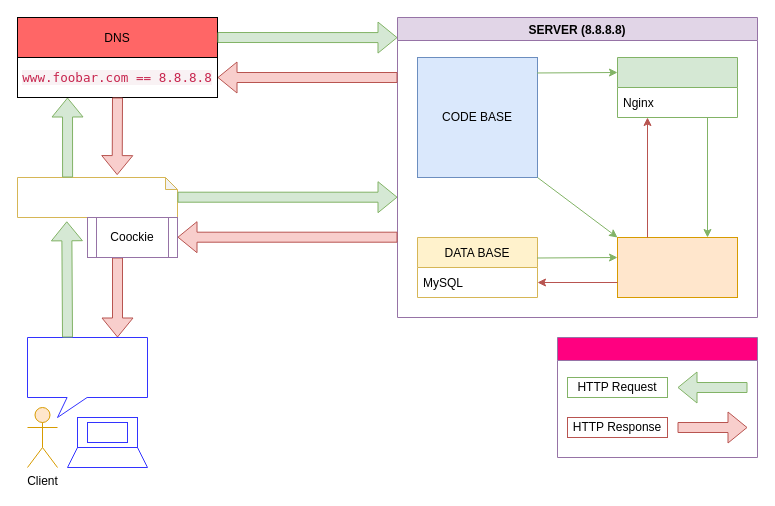
This 775x506 diagram has some shape labels left out. The shapes that lost their labels are listed below. From the top down, each one's box as (x1, y1, x2, y2) in pixels, then its label:
(616, 56, 738, 118): WEB SERVER
(16, 176, 178, 218): Cache Memory
(616, 236, 738, 298): App SERVER
(26, 336, 148, 418): I want to entry to the web page: www.foobar.com
(556, 336, 758, 458): HTTP Protocol
